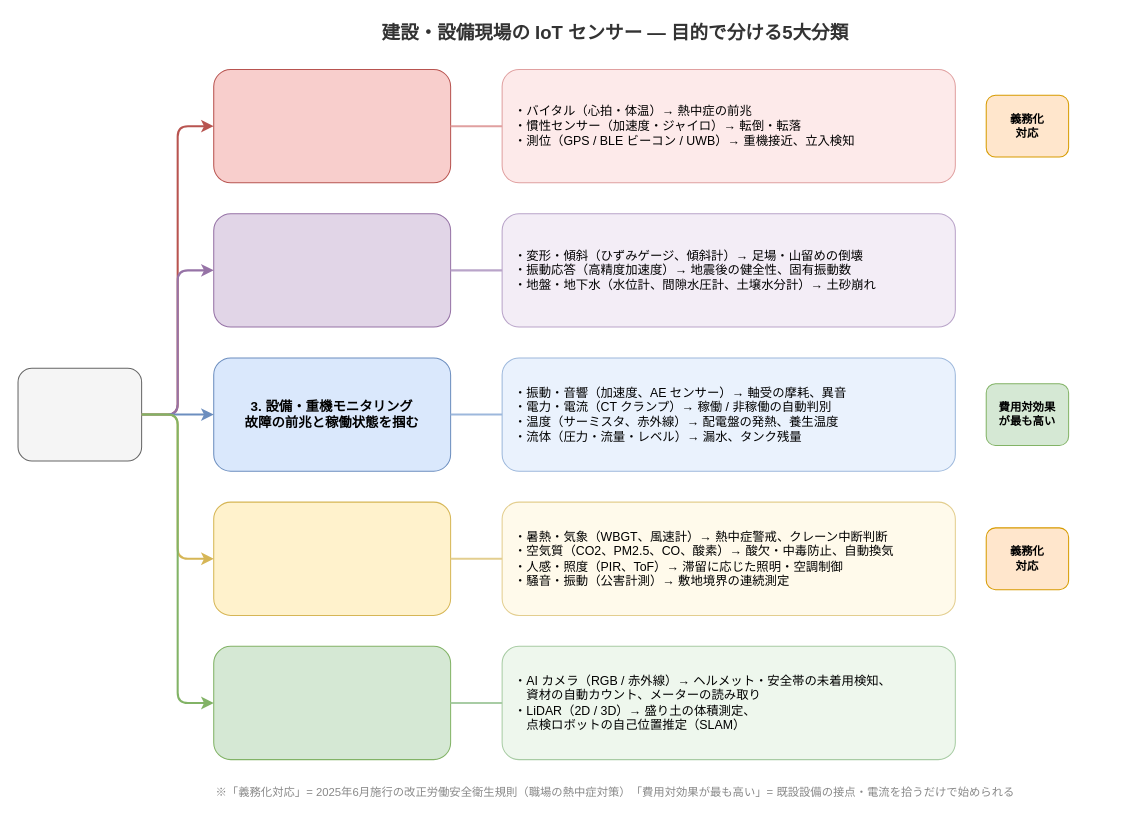
This 1128x822 diagram has some shape labels left out. The centre of each missing label's shape, as x and y in pixels:
"1. 人員・作業安全管理 作業員の命と健康を守る" belongs at (332,125).
"2. 構造物・地盤の健全性 変形や崩壊の前兆を察知する" belongs at (332,270).
"4. 環境・空間モニタリング 暑さ・空気質・公害・省エネ" belongs at (332,558).
"5. 画像・空間認識 AI で視覚的に監視・計測する" belongs at (332,702).
"何のために 測るのか" belongs at (79,414).
